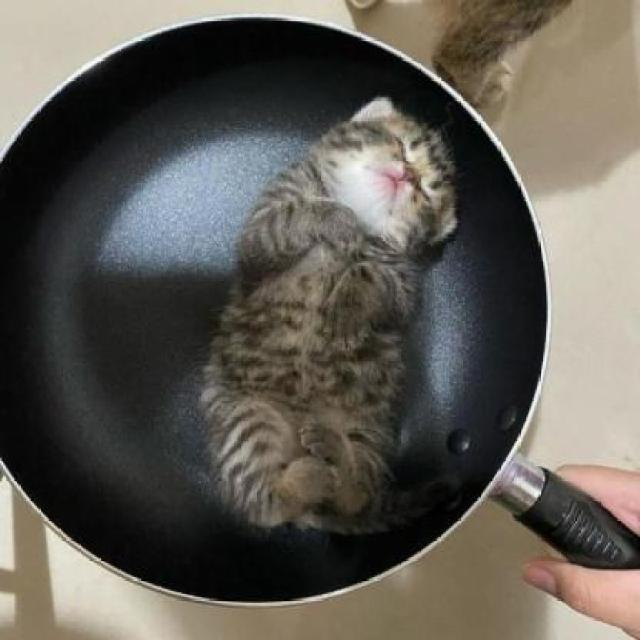cat: (195, 96, 463, 538)
